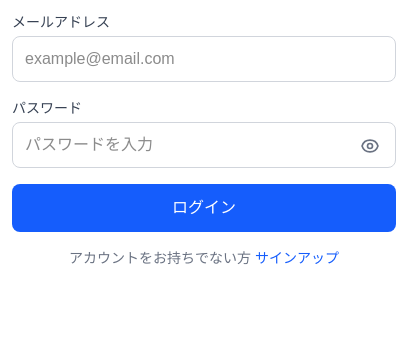
Test: LoginForm › should show error on auth failure
The width and height of the screenshot is (415, 342).
Type "test@example.com" into the field labelled "メールアドレス" at (204, 59), box [12, 36, 396, 82]
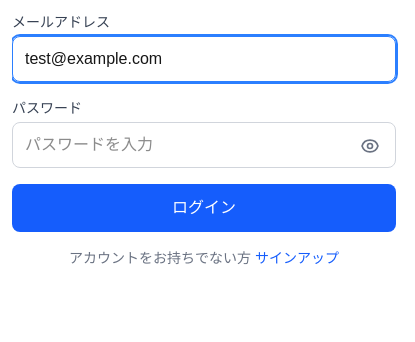
Type "wrong" into the password field labelled "パスワード" at (204, 145), box [12, 122, 396, 168]
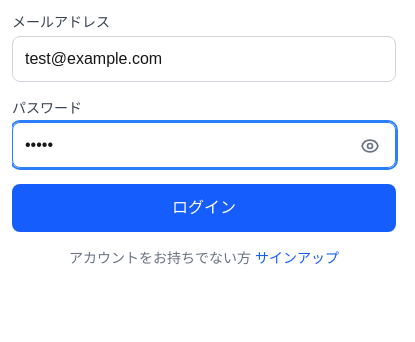
Click the button "ログイン" at (204, 208), box [12, 184, 396, 232]
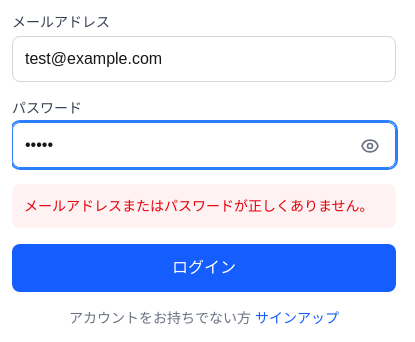
Check: the text "メールアドレスまたはパスワードが正しくありません。" is shown, box [12, 184, 396, 228]
